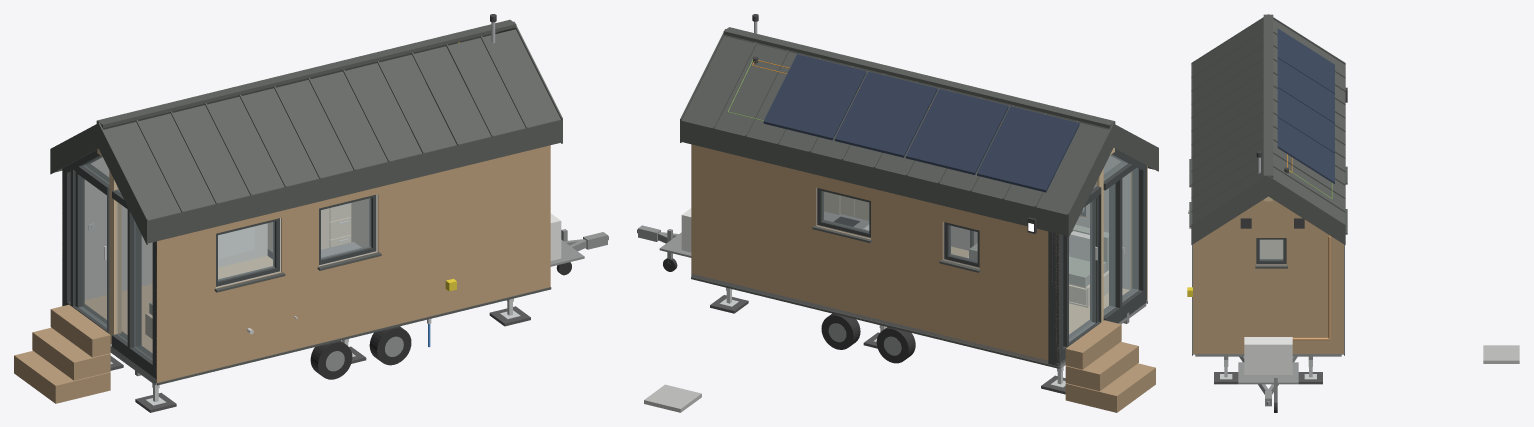
Rendered from dum-s.glb.
3 views of the same model, side by side, from view 1: azimuth 30°, elevation 25°; view 2: azimuth 150°, elevation 25°; view 3: azimuth 270°, elevation 25° (orthographic). The views are drawn at different scales.
Visible parts, largest first — view 1: Stena_L_obklad, Strecha_L, Okap_L, Stit_A_ram, Obklad_R, Hrebenac, Dvere_D1, Okno_O1, Schod_vstup_1, Okno_O2, Schod_vstup_2, Stit_A_sklo_1 (+13 smaller); view 2: Stena_R_obklad, Strecha_R, Stit_A_ram, Okap_R, Solar_panel_01, Solar_panel_02, Solar_panel_03, Solar_panel_04, Hrebenac, Dvere_D1, Schod_vstup_1, Stit_A_sklo_1 (+20 smaller); view 3: Stit_B_obklad, Strecha_L, Strecha_R, TC_venkovni_jednotka, Solar_panel_04, Hrebenac, Solar_panel_01, Solar_panel_03, Solar_panel_02, Stitova_lista_2_R, Stitova_lista_2_L, TC_plosina (+4 smaller).
Part boxes in pixels (<box>): Stena_L_obklad: <box>156,145,550,382</box>; Strecha_L: <box>103,29,560,221</box>; Okap_L: <box>148,119,561,243</box>; Stit_A_ram: <box>62,150,156,378</box>; Obklad_R: <box>84,157,267,299</box>; Hrebenac: <box>96,19,516,128</box>; Dvere_D1: <box>78,175,106,327</box>; Okno_O1: <box>218,222,274,280</box>; Schod_vstup_1: <box>14,351,110,403</box>; Okno_O2: <box>321,198,371,259</box>; Schod_vstup_2: <box>32,327,110,380</box>; Stit_A_sklo_1: <box>134,221,152,359</box>; Stena_R_obklad: <box>691,144,1059,363</box>; Strecha_R: <box>682,36,1108,214</box>; Stit_A_ram: <box>1048,148,1146,366</box>; Okap_R: <box>681,120,1067,235</box>; Solar_panel_01: <box>977,106,1079,192</box>; Solar_panel_02: <box>905,89,1008,174</box>; Solar_panel_03: <box>834,71,937,157</box>; Solar_panel_04: <box>763,54,866,140</box>; Hrebenac: <box>723,27,1115,128</box>; Dvere_D1: <box>1069,199,1095,341</box>; Schod_vstup_1: <box>1065,363,1155,412</box>; Stit_A_sklo_1: <box>1122,168,1138,301</box>; Stit_B_obklad: <box>1193,199,1343,353</box>; Strecha_L: <box>1192,19,1263,223</box>; Strecha_R: <box>1273,19,1344,223</box>; TC_venkovni_jednotka: <box>1244,337,1292,374</box>; Solar_panel_04: <box>1277,117,1334,183</box>; Hrebenac: <box>1263,14,1273,177</box>; Solar_panel_01: <box>1277,28,1334,93</box>; Solar_panel_03: <box>1277,88,1334,153</box>; Solar_panel_02: <box>1277,58,1334,123</box>; Stitova_lista_2_R: <box>1268,176,1345,244</box>; Stitova_lista_2_L: <box>1191,176,1268,244</box>; TC_plosina: <box>1238,362,1298,384</box>.
Bounding box in the file's own units: 8.44 × 4.17 × 5.49.
